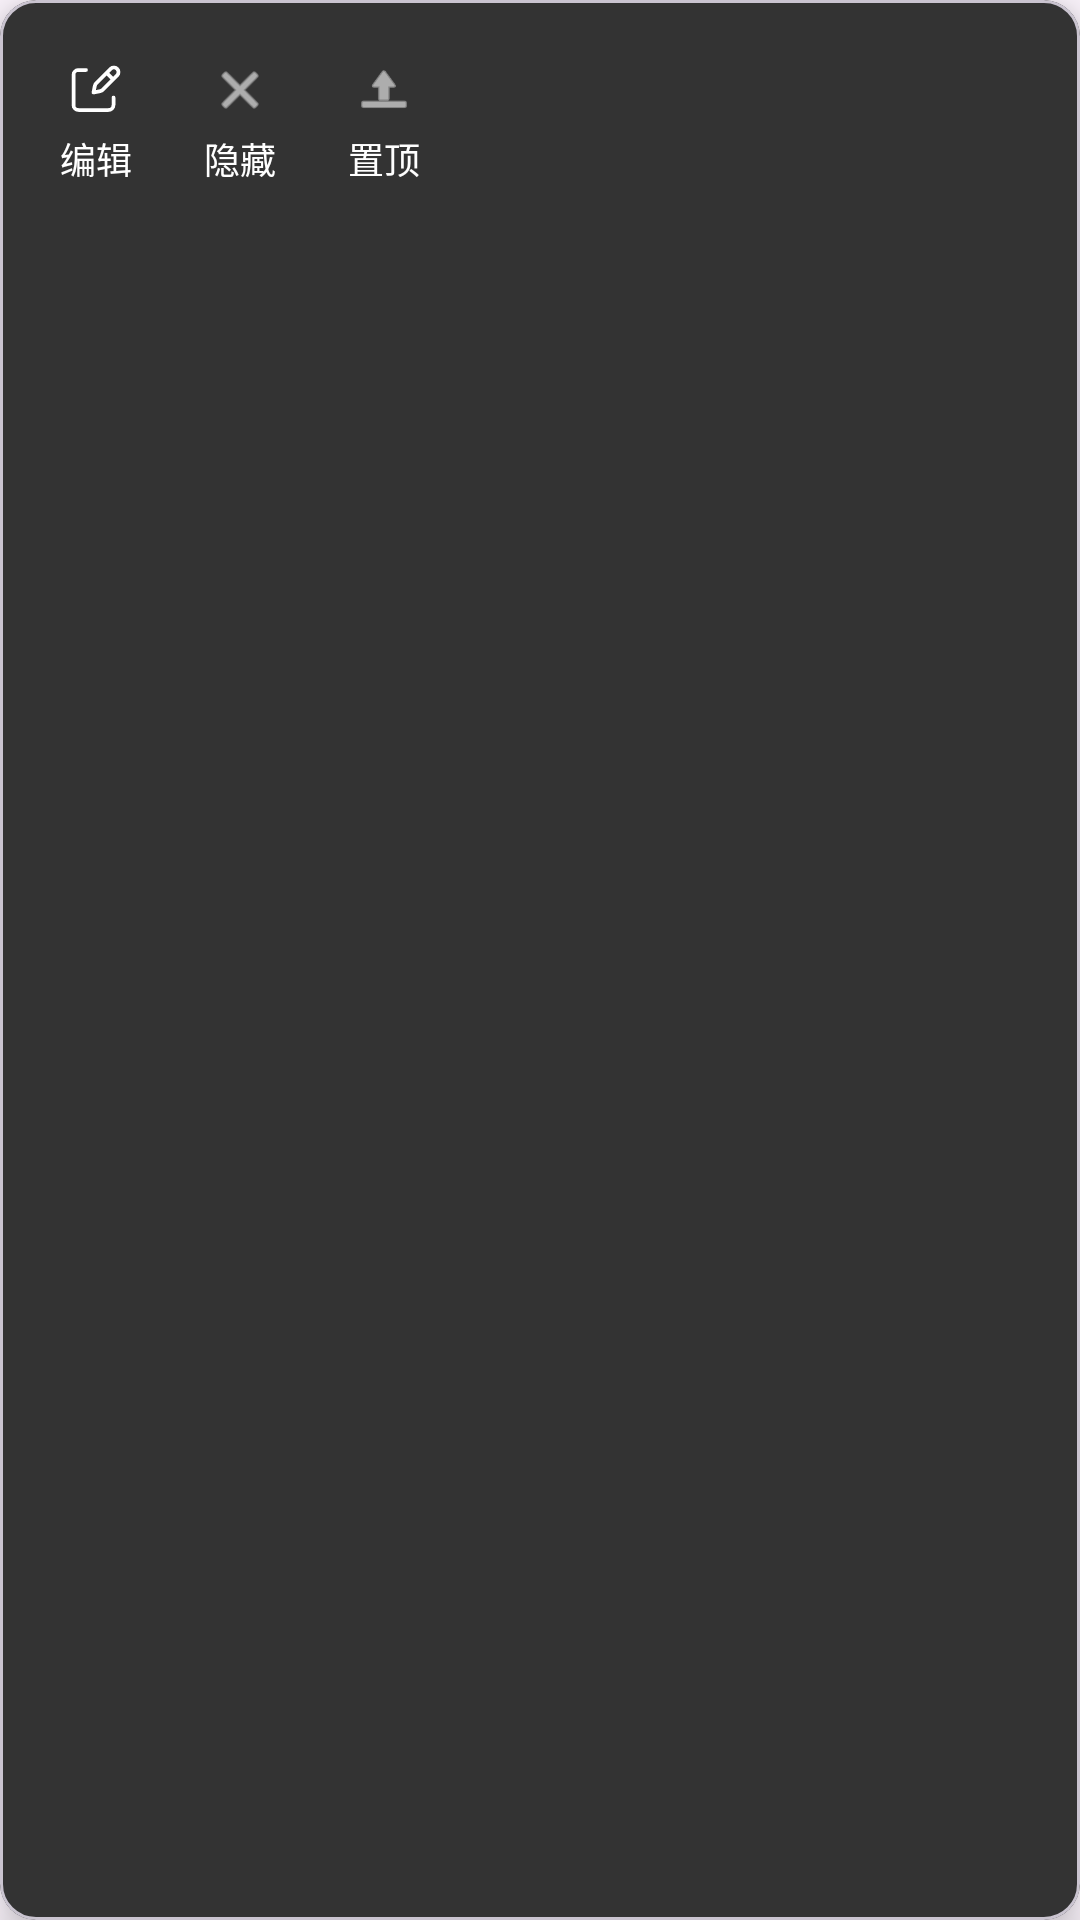

Locate icon controls on the screen. Image size 1080px×1920px, boxes as (x1, y1, x2, y2).
close clear cancel: (221, 71, 259, 109)
upload: (361, 70, 407, 108)
